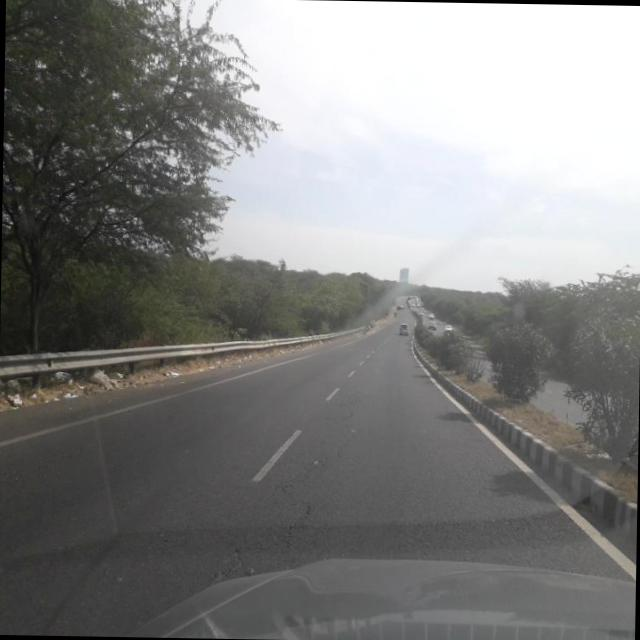crack: (190, 448, 341, 578)
